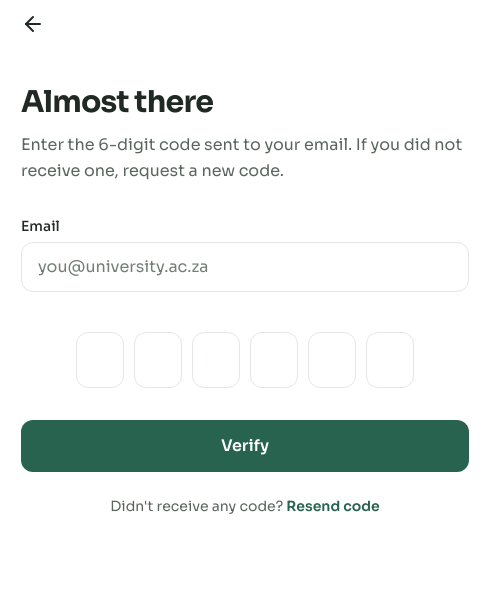
Test: Verification recovery › lets a user without navigation state enter an email and request a new code
The image size is (491, 608).
Type "buyer@example.ac.za" into the field labelled "Email".
click(245, 267); type("buyer@example.ac.za")  # box [21,242,469,292]
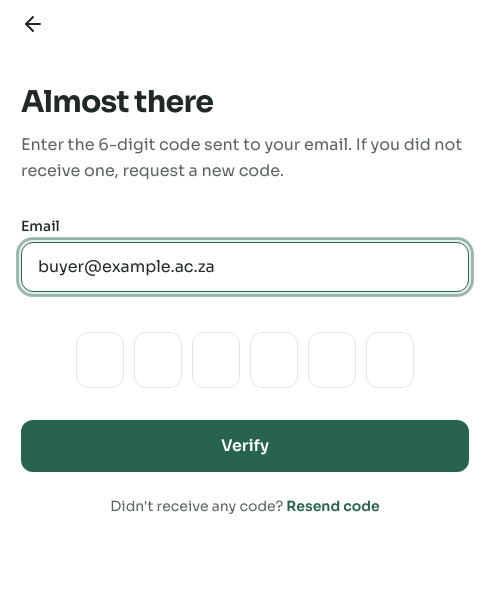
Click the button "Resend code".
click(333, 506)  # box [286,496,380,516]
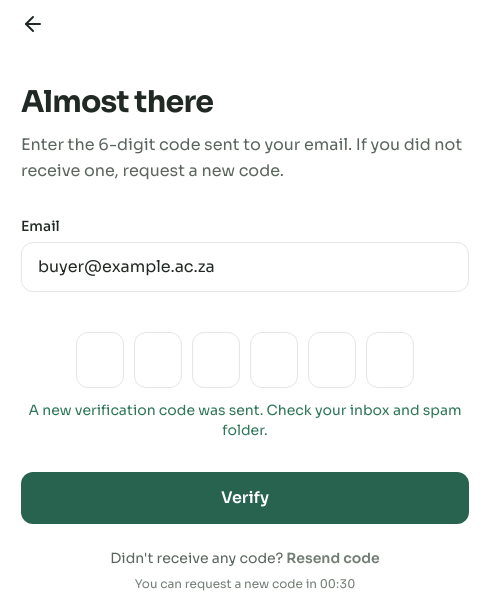
Check: the message shows "new verification code was sent", box [28,401,462,439]
